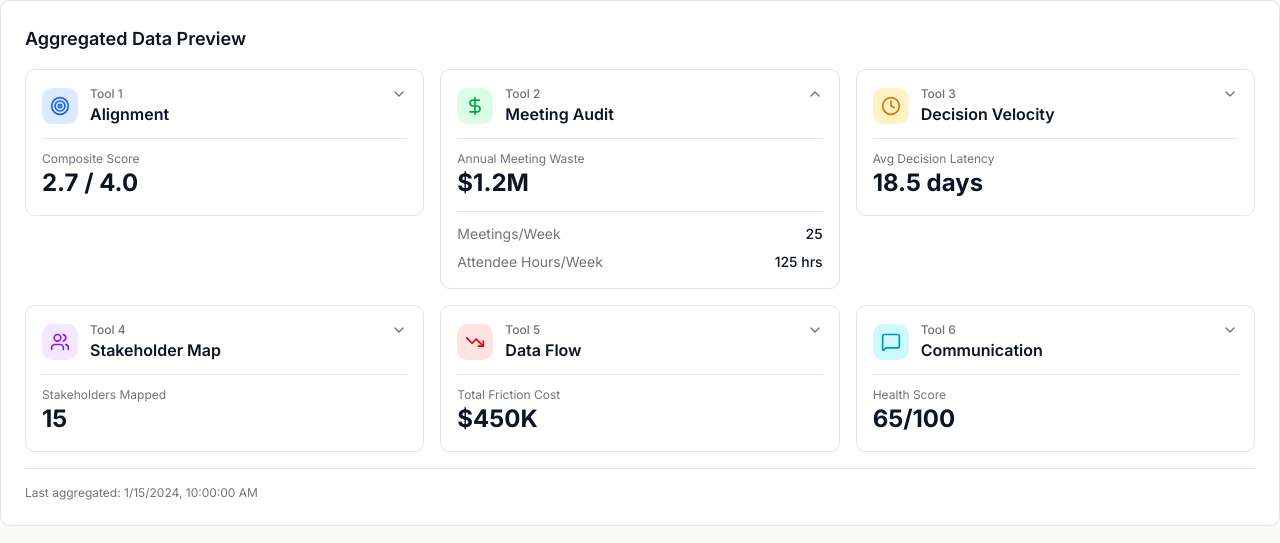
Scenario: AggregatedDataPreview › when tools have data › expands card to show details when clicked
This screenshot has width=1280, height=543.
Click the button "Alignment" at (225, 142), box x1=42 y1=86 x2=407 y2=199
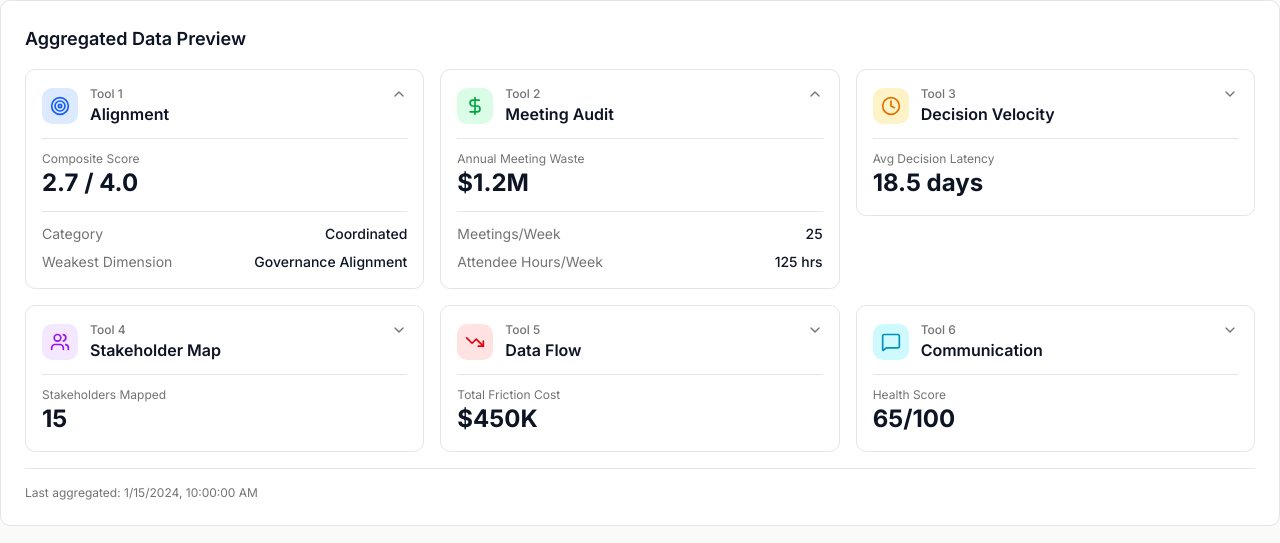
Expected: the text "Coordinated" is shown, x1=325 y1=224 x2=407 y2=244
Expected: the text "Governance Alignment" is shown, x1=254 y1=252 x2=407 y2=272
